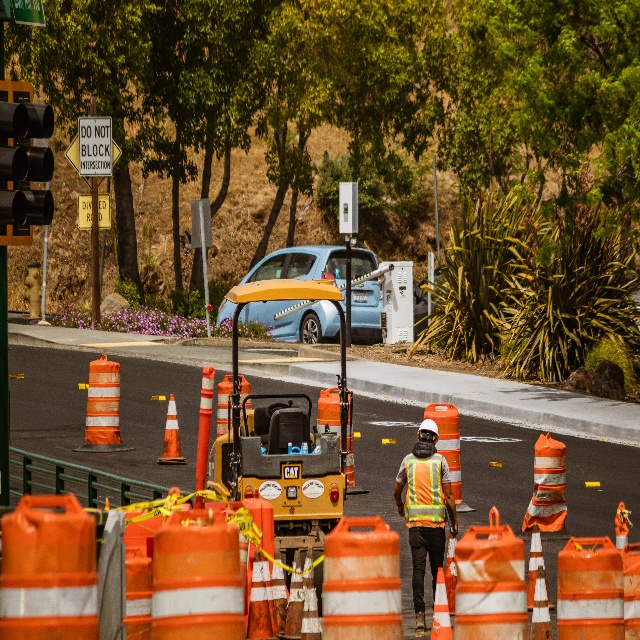Sin_guantes: (397, 504, 405, 516), (454, 522, 459, 534)
